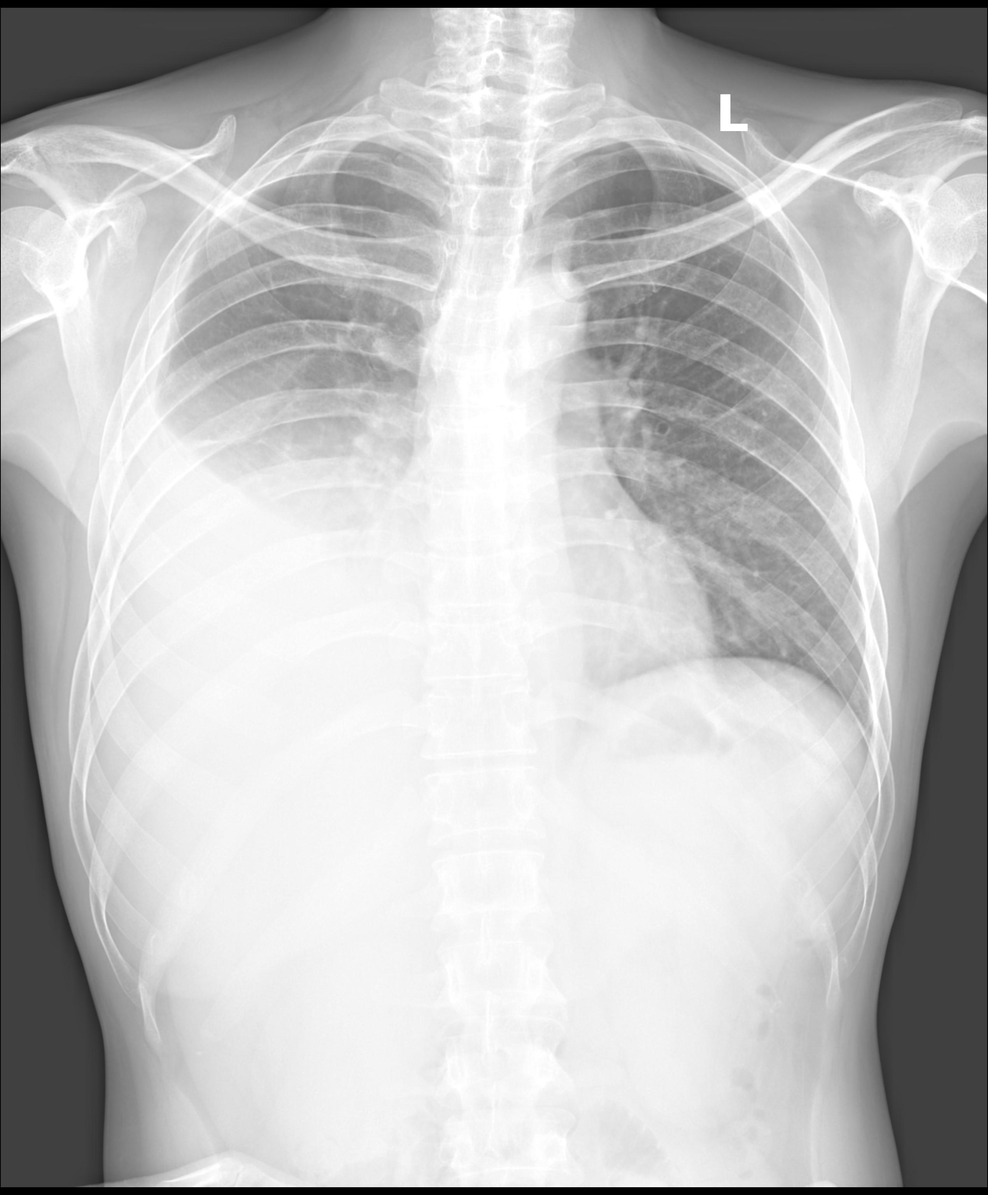Pulmonary fibrosis: (182, 366, 305, 471)
